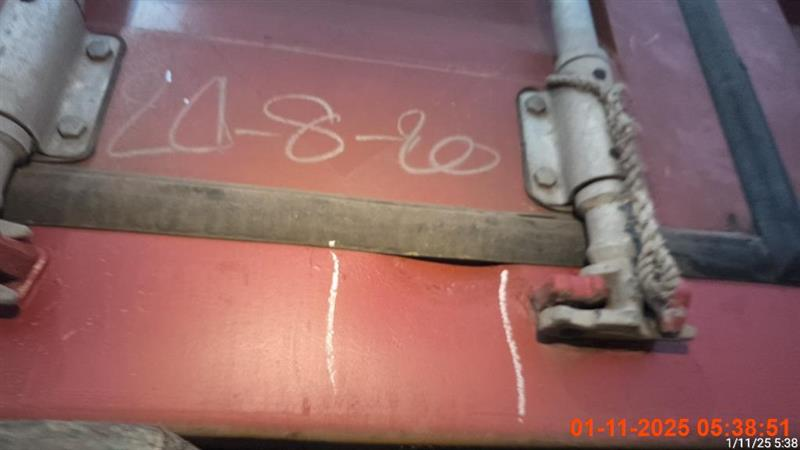dent: (1, 2, 797, 441)
